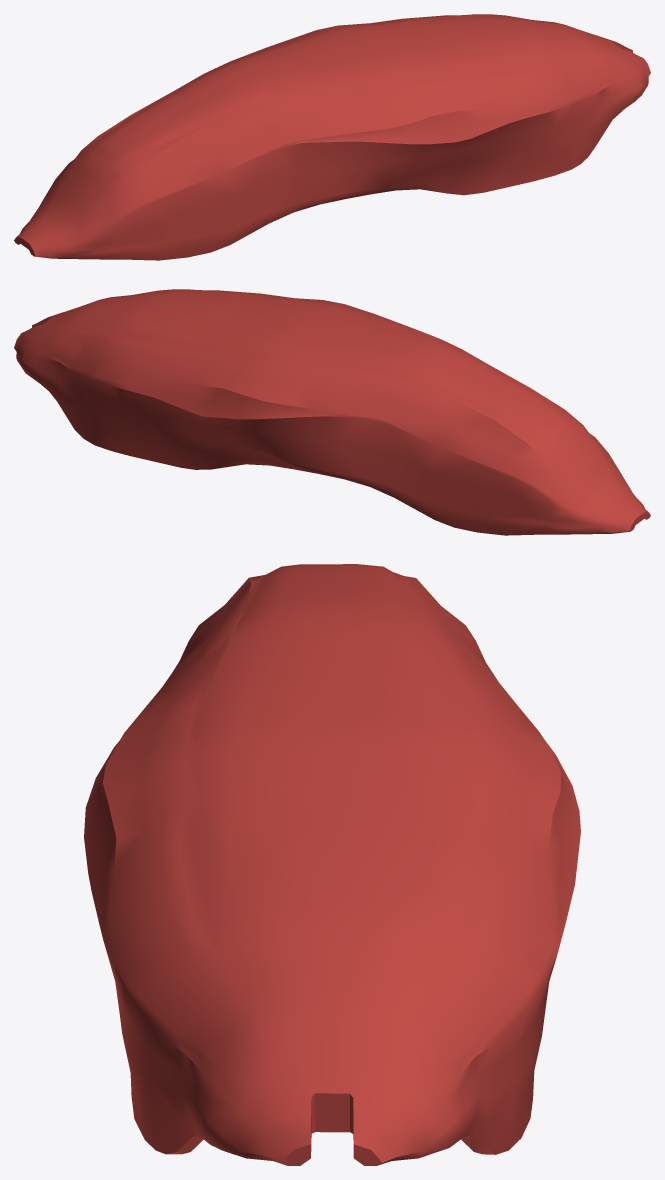
The model's file is sport_lod2.glb.
3 renders of one model, top to bottom at view 1: azimuth 30°, elevation 25°; view 2: azimuth 150°, elevation 25°; view 3: azimuth 270°, elevation 25°, orthographic. The views are drawn at different scales.
Visible parts, largest first — view 1: sport_lod2; view 2: sport_lod2; view 3: sport_lod2.
Boxes of the visible parts, x1=… form: sport_lod2: x1=14, y1=14, x2=650, y2=260; sport_lod2: x1=14, y1=289, x2=650, y2=535; sport_lod2: x1=84, y1=564, x2=580, y2=1165.
Size of the model in its own units: 1.07 by 0.2206 by 0.3737.
